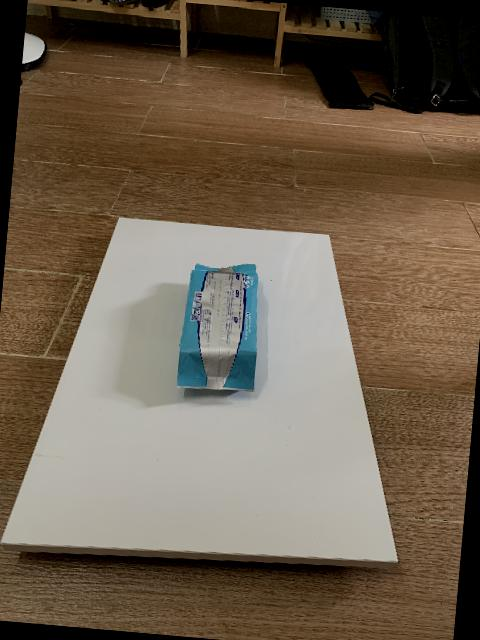Let-green_alcohol_wipes: (177, 263, 259, 391)
